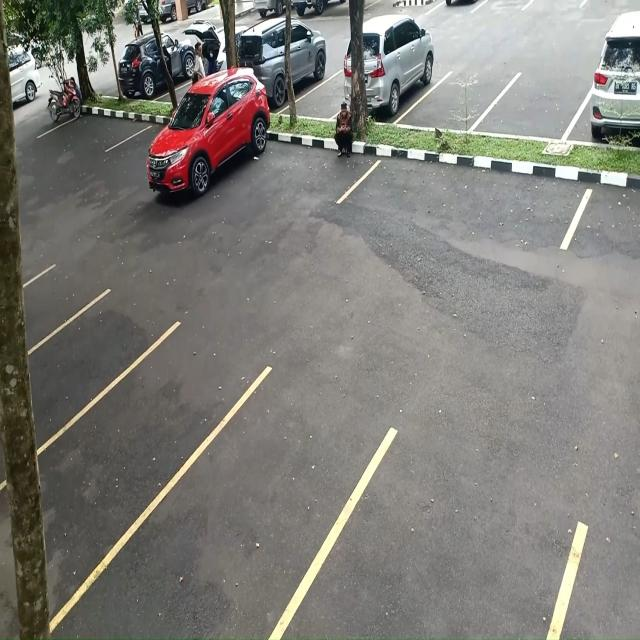empty: (343, 160, 590, 243), (491, 72, 589, 140), (412, 70, 496, 130), (298, 74, 345, 122)
occupied: (362, 31, 434, 124)
